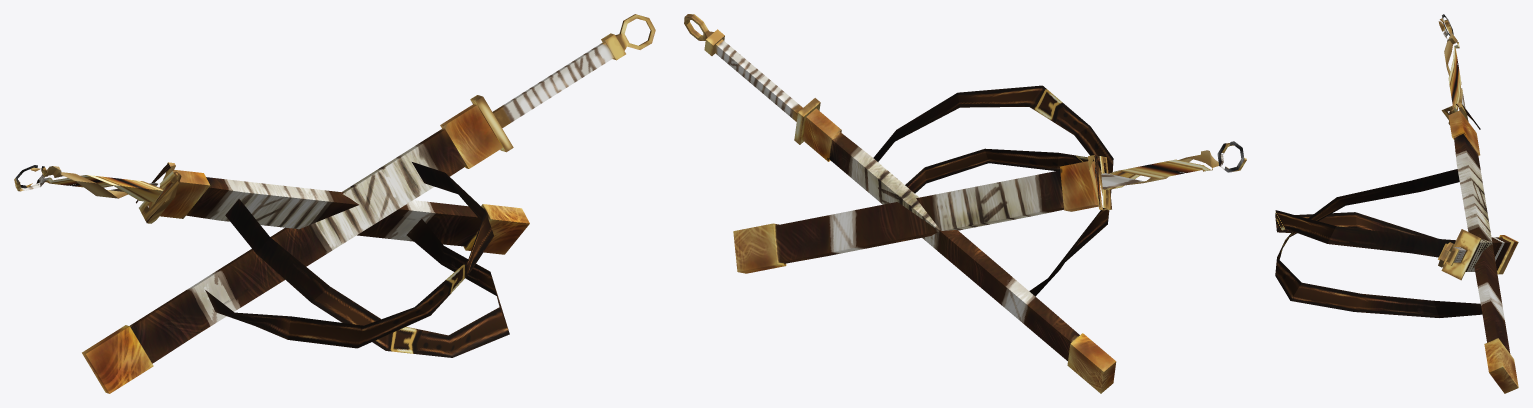
Rendered from Scout_Blades_R_UV.fbx.
3 renders of one model, left to right at view 1: azimuth 30°, elevation 25°; view 2: azimuth 150°, elevation 25°; view 3: azimuth 270°, elevation 25°, orthographic. The views are drawn at different scales.
Parts seen in each view (by area): view 1: SheathBelt2, SheathBelt1, StraightBlade2, StraightBlade1; view 2: SheathBelt1, SheathBelt2, StraightBlade1, StraightBlade2; view 3: SheathBelt1, SheathBelt2, StraightBlade1, StraightBlade2.
Part boxes in pixels (<box>): SheathBelt2: <box>82,104,502,393</box>; SheathBelt1: <box>148,169,529,357</box>; StraightBlade2: <box>470,14,655,152</box>; StraightBlade1: <box>14,162,181,223</box>; SheathBelt1: <box>733,148,1101,273</box>; SheathBelt2: <box>803,85,1116,393</box>; StraightBlade1: <box>1088,141,1246,210</box>; StraightBlade2: <box>684,14,820,144</box>; SheathBelt1: <box>1275,110,1518,393</box>; SheathBelt2: <box>1275,210,1518,274</box>; StraightBlade1: <box>1438,14,1480,130</box>; StraightBlade2: <box>1438,229,1481,280</box>.
Size of the model in its own units: 0.9932 by 0.4227 by 0.4286.
